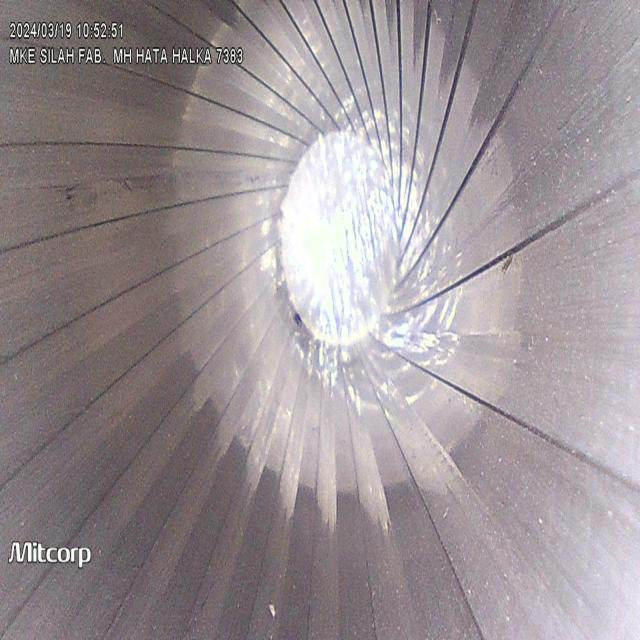hata_8.2: (39, 145, 210, 219)
